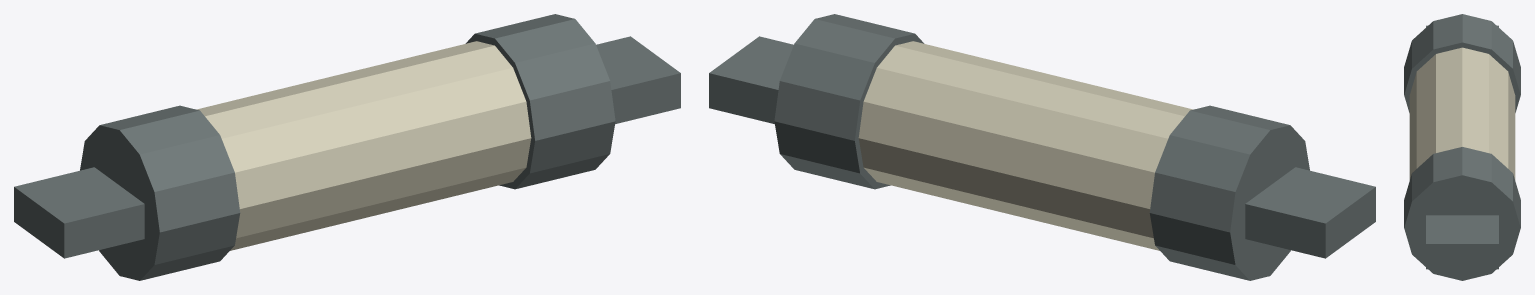
Rendered from fuse.glb.
3 views of the same model, side by side, from view 1: azimuth 30°, elevation 25°; view 2: azimuth 150°, elevation 25°; view 3: azimuth 270°, elevation 25° (orthographic). The views are drawn at different scales.
Visible parts, largest first — view 1: fuse; view 2: fuse; view 3: fuse.
Part boxes in pixels (x1=…): fuse: x1=14, y1=14, x2=680, y2=280; fuse: x1=709, y1=14, x2=1375, y2=280; fuse: x1=1404, y1=14, x2=1520, y2=280.
Bounding box in the file's own units: 0.46 × 0.104 × 0.104.
